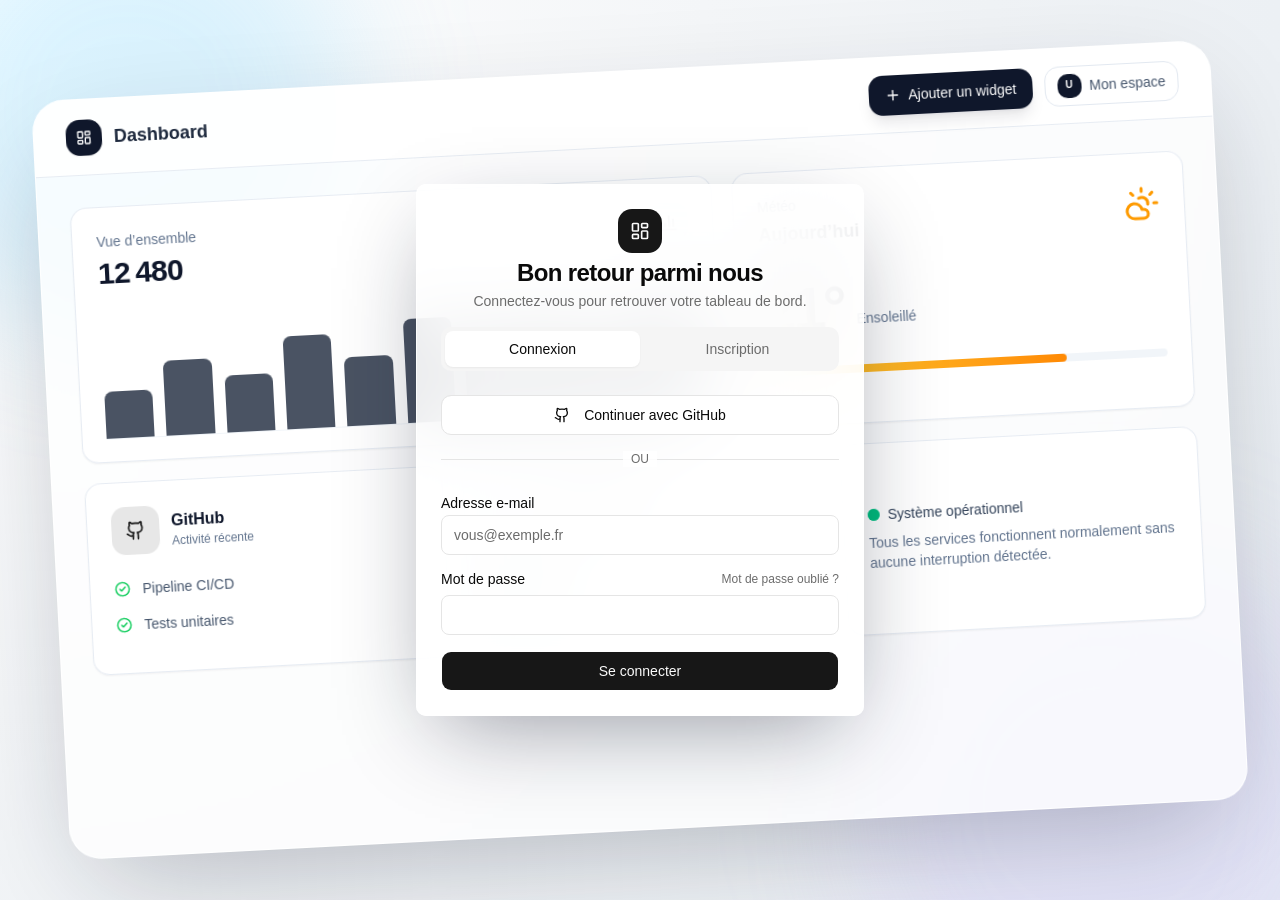
Test: reports a GitHub sign-in that cannot start
Click the button "Continuer avec GitHub" at point(640, 415), box [441,395,839,435]
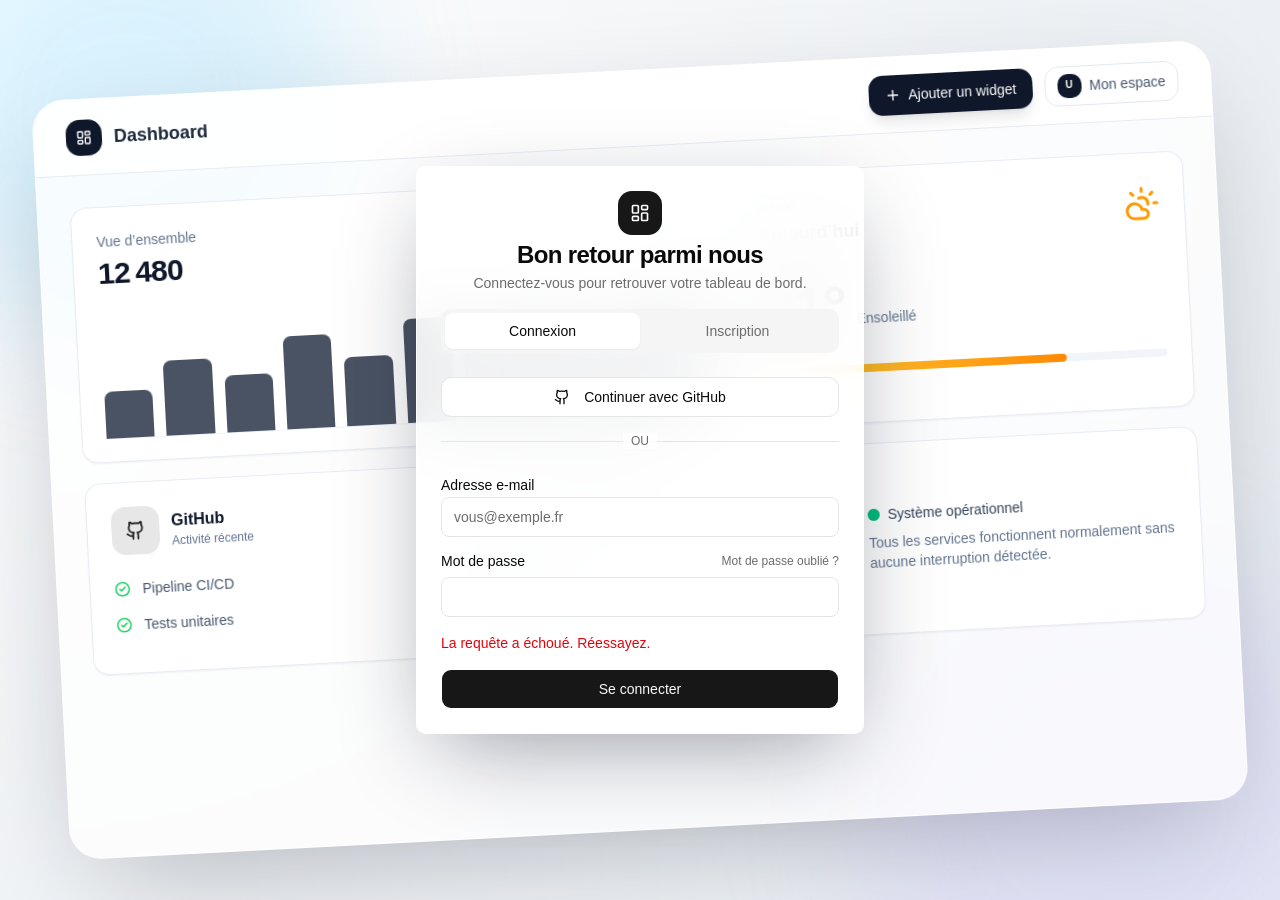
Now the message reads "La requête a échoué. Réessayez.", box [441,635,650,651]
